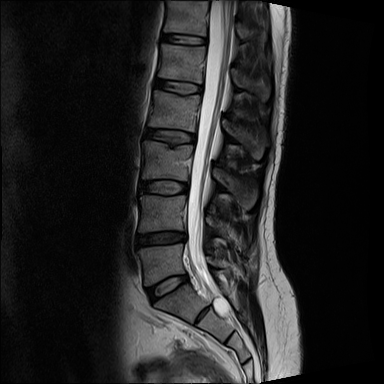Degenerative Disc Disease (DDD): (130, 226, 192, 252)
Normal IVD: (141, 268, 192, 309), (137, 122, 198, 148), (131, 176, 190, 199), (148, 75, 206, 98), (155, 28, 210, 48)
Spinal Stenosis (SS): (178, 227, 192, 245)
